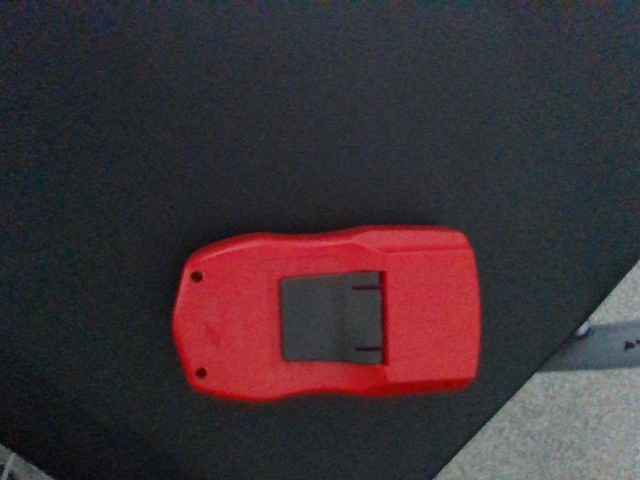multimeter: (169, 223, 485, 406)
screw hole: (190, 270, 204, 284), (193, 367, 207, 380)
